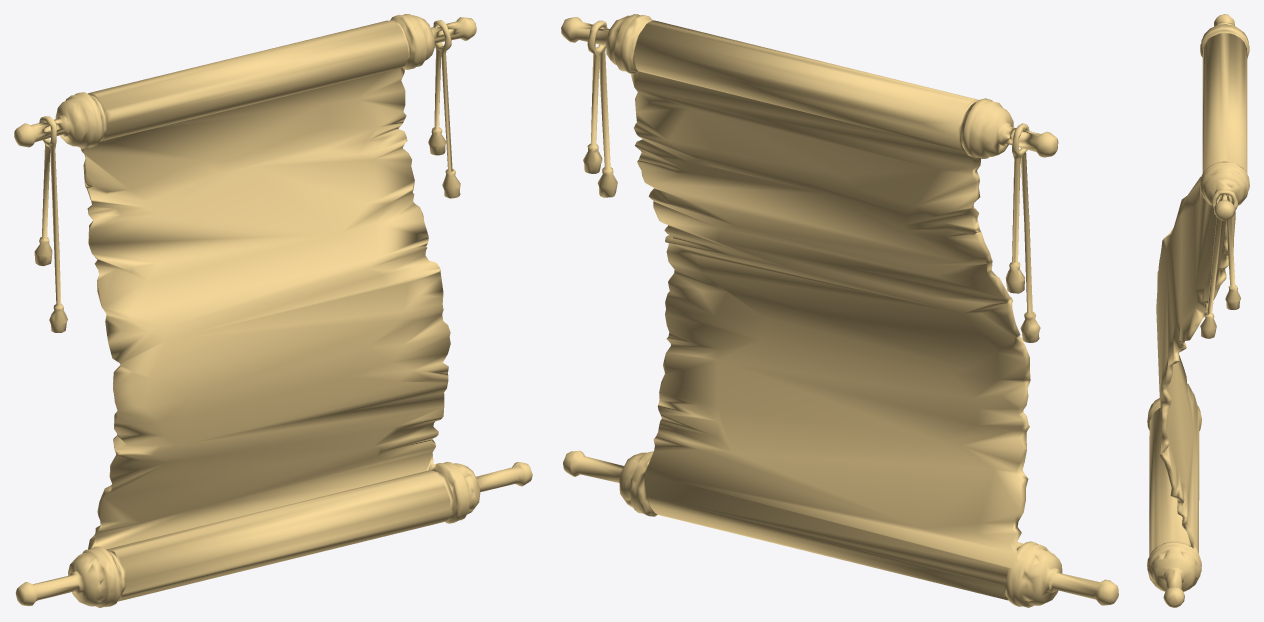
Rendered from wikalino-story-scroll.glb.
3 renders of one model, left to right at view 1: azimuth 30°, elevation 25°; view 2: azimuth 150°, elevation 25°; view 3: azimuth 270°, elevation 25°, orthographic. The views are drawn at different scales.
Parts seen in each view (by area): view 1: material; view 2: material; view 3: material.
Part boxes in pixels (left/top/right/bottom): material: left=14, top=14, right=532, bottom=607; material: left=561, top=14, right=1118, bottom=607; material: left=1147, top=14, right=1249, bottom=607.
Bounding box in the file's own units: 0.9245 × 0.8393 × 0.1847.
